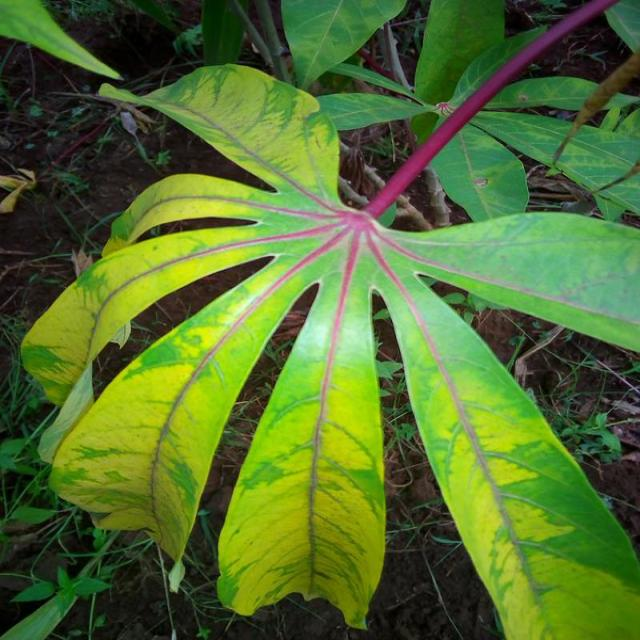cassava leaf: (20, 55, 638, 637)
